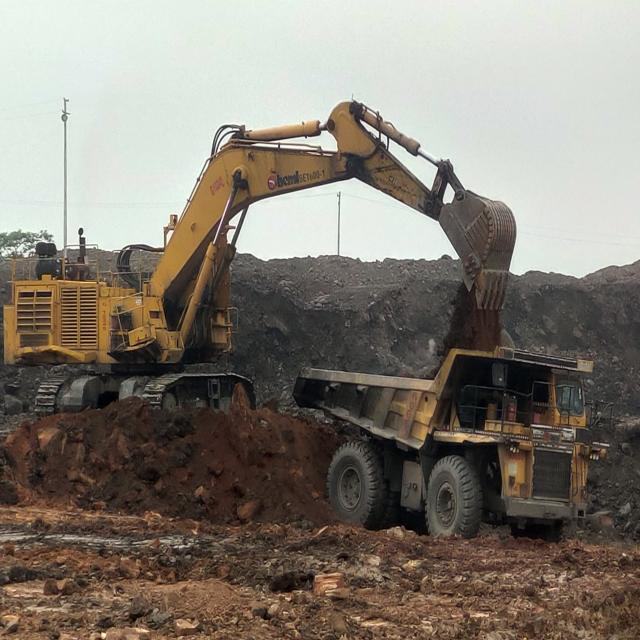dump_truck: (292, 349, 606, 541)
excavator: (3, 101, 517, 422)
